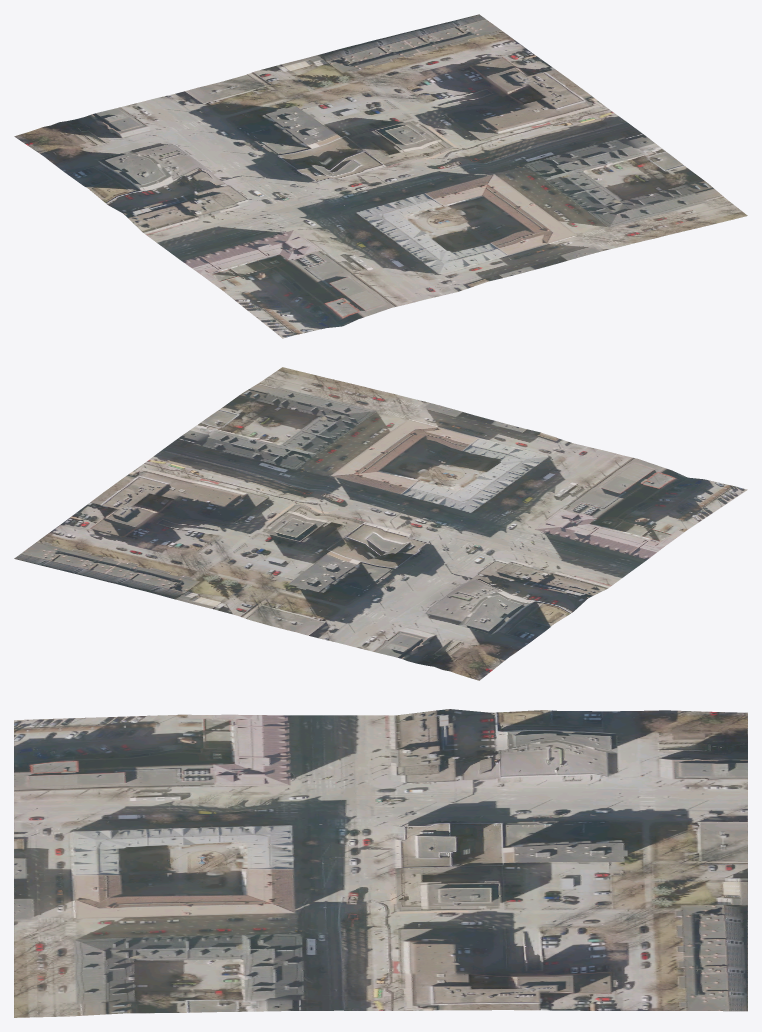
The model's file is CM_Terrain_24488206_6821022.fbx.
3 renders of one model, top to bottom at view 1: azimuth 30°, elevation 25°; view 2: azimuth 150°, elevation 25°; view 3: azimuth 270°, elevation 25°, orthographic. The views are drawn at different scales.
Visible parts, largest first — view 1: CM_Terrain_24488206_6821022_LOD0; view 2: CM_Terrain_24488206_6821022_LOD0; view 3: CM_Terrain_24488206_6821022_LOD0.
Part boxes in pixels (left/top/right/bottom): CM_Terrain_24488206_6821022_LOD0: left=14, top=14, right=747, bottom=338; CM_Terrain_24488206_6821022_LOD0: left=14, top=367, right=747, bottom=680; CM_Terrain_24488206_6821022_LOD0: left=14, top=709, right=747, bottom=1017.
Size of what is drawn, in the model's own units: 205 by 8.64 by 205.
